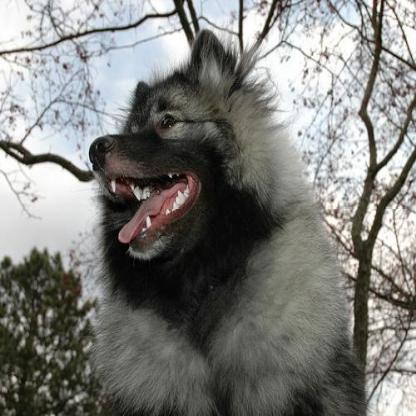keeshond: (86, 25, 367, 412)
